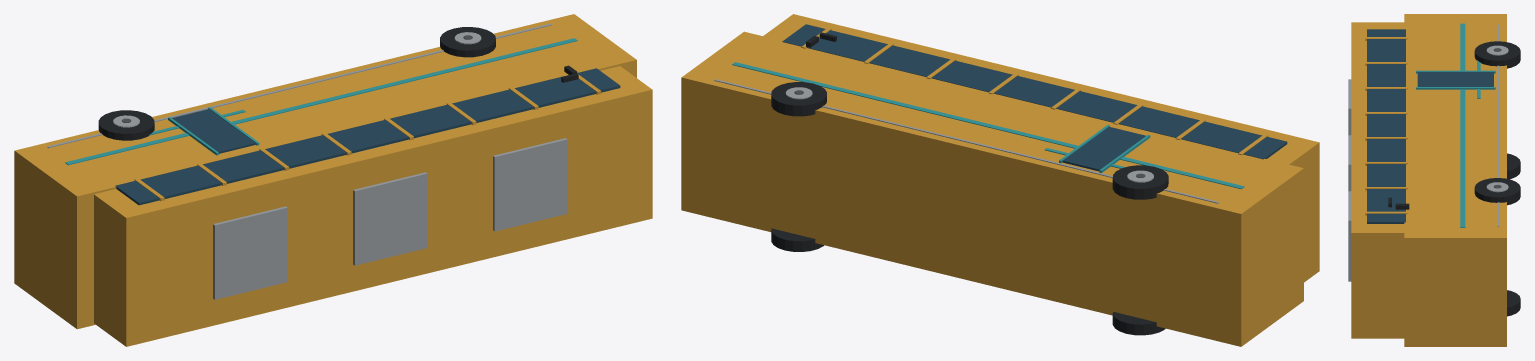
Rendered from RM_Bus_16.glb.
3 renders of one model, left to right at view 1: azimuth 30°, elevation 25°; view 2: azimuth 150°, elevation 25°; view 3: azimuth 270°, elevation 25°, orthographic. The views are drawn at different scales.
Parts seen in each view (by area): view 1: part_001, part_000, part_002, part_038, part_039, part_037, part_013, part_040, part_024, part_030, part_014; view 2: part_000, part_002, part_001, part_013, part_040, part_024, part_030, part_014, part_021, part_027; view 3: part_000, part_001, part_002, part_040, part_013, part_024, part_030, part_014, part_039, part_027, part_021, part_042 (+5 smaller).
Part boxes in pixels (bbox=[...]): part_001: bbox=[94, 66, 652, 346]; part_000: bbox=[14, 14, 636, 329]; part_002: bbox=[115, 68, 620, 205]; part_038: bbox=[353, 172, 427, 265]; part_039: bbox=[493, 138, 567, 231]; part_037: bbox=[213, 206, 287, 299]; part_013: bbox=[65, 38, 577, 165]; part_040: bbox=[172, 109, 255, 153]; part_024: bbox=[98, 110, 154, 140]; part_030: bbox=[440, 27, 495, 57]; part_014: bbox=[47, 23, 552, 147]; part_000: bbox=[681, 31, 1303, 346]; part_002: bbox=[782, 24, 1287, 159]; part_001: bbox=[763, 14, 1319, 282]; part_013: bbox=[732, 62, 1244, 189]; part_040: bbox=[1062, 126, 1145, 171]; part_024: bbox=[1112, 165, 1168, 199]; part_030: bbox=[771, 82, 826, 116]; part_014: bbox=[714, 79, 1219, 203]; part_021: bbox=[1112, 311, 1165, 335]; part_027: bbox=[771, 228, 823, 251]; part_000: bbox=[1404, 14, 1506, 346]; part_001: bbox=[1351, 22, 1404, 338]; part_002: bbox=[1367, 29, 1405, 223]; part_040: bbox=[1417, 72, 1493, 86]; part_013: bbox=[1460, 23, 1465, 227]; part_024: bbox=[1474, 41, 1520, 68]; part_030: bbox=[1474, 178, 1520, 205]; part_014: bbox=[1497, 24, 1499, 226]; part_039: bbox=[1348, 191, 1351, 281]; part_027: bbox=[1507, 290, 1520, 316]; part_021: bbox=[1507, 153, 1520, 179]; part_042: bbox=[1416, 87, 1495, 89].
Bounding box in the file's own units: 10.8 × 2.77 × 3.51.
